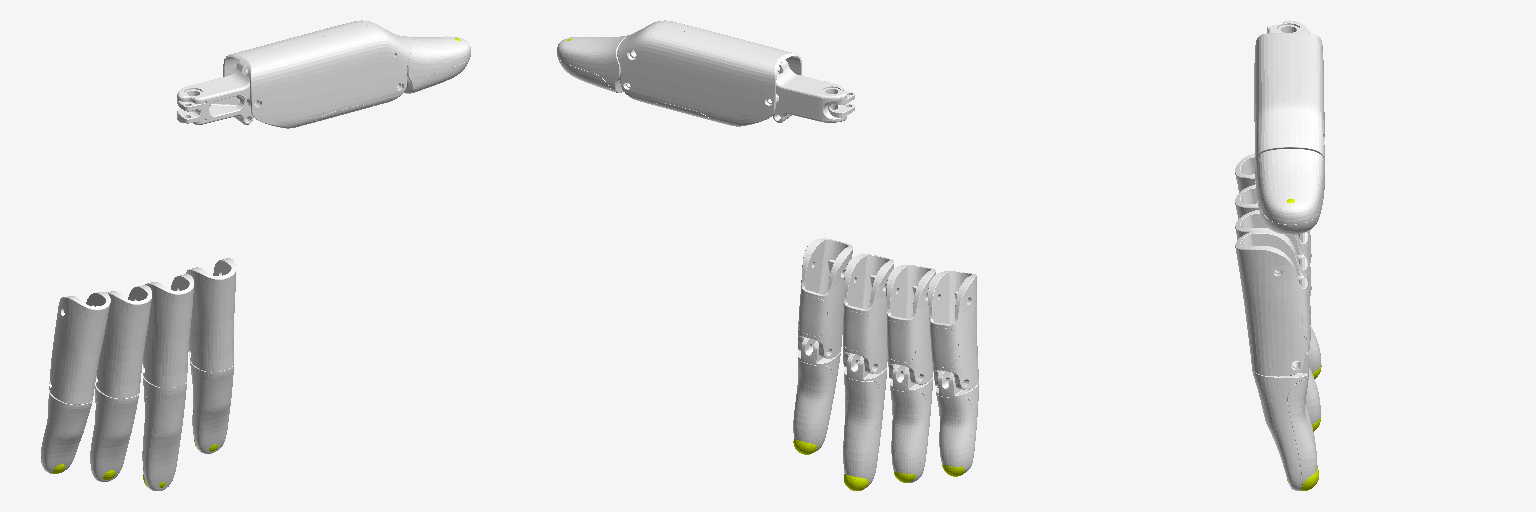
robot.urdf — fourier_right_hand_6dof:
<?xml version="1.0" encoding="utf-8"?>
<!-- 09222025-alpha-1 -->
<robot name="fourier_right_hand_6dof">
  <link name="R_hand_base_link">
    <inertial>
      <origin xyz="-0.0010591 0.0016177 -0.049492" rpy="0 0 0" />
      <mass value="0.2993" />
      <inertia ixx="0.00020609" ixy="1.23E-06" ixz="8.3E-06" iyy="0.00028713" iyz="-7.35E-06" izz="0.00014748" />
    </inertial>
    <visual>
      <origin xyz="0 0 0" rpy="0 0 0" />
      <geometry>
        <mesh filename="../meshes/fourier_hand_6dof/R_hand_base_link.STL" />
      </geometry>
      <material name="">
        <color rgba="1 1 1 1" />
      </material>
    </visual>
    <collision>
      <origin xyz="0 0 0" rpy="0 0 0" />
      <geometry>
        <mesh filename="../meshes/fourier_hand_6dof/R_hand_base_link.STL" />
      </geometry>
    </collision>
  </link>
  <link name="R_thumb_proximal_yaw_link">
    <inertial>
      <origin xyz="0.011674 -0.00039794 -0.00044567" rpy="0 0 0" />
      <mass value="0.0084327" />
      <inertia ixx="3E-07" ixy="1E-08" ixz="5E-08" iyy="8.8E-07" iyz="0" izz="8.5E-07" />
    </inertial>
    <visual>
      <origin xyz="0 0 0" rpy="0 0 0" />
      <geometry>
        <mesh filename="../meshes/fourier_hand_6dof/R_thumb_proximal_yaw_link.STL" />
      </geometry>
      <material name="">
        <color rgba="1 1 1 1" />
      </material>
    </visual>
    <collision>
      <origin xyz="0 0 0" rpy="0 0 0" />
      <geometry>
        <mesh filename="../meshes/fourier_hand_6dof/R_thumb_proximal_yaw_link.STL" />
      </geometry>
    </collision>
  </link>
  <joint name="R_thumb_proximal_yaw_joint" type="revolute">
    <origin xyz="0.022 0.0155 -0.022892" rpy="3.1416 0 0" />
    <parent link="R_hand_base_link" />
    <child link="R_thumb_proximal_yaw_link" />
    <axis xyz="0 0 1" />
    <limit lower="-1.676" upper="0" effort="0" velocity="0" />
  </joint>
  <link name="R_thumb_proximal_pitch_link">
    <inertial>
      <origin xyz="0.034496 0.00048877 1.942E-05" rpy="0 0 0" />
      <mass value="0.060766" />
      <inertia ixx="5.08E-06" ixy="8.1E-07" ixz="2E-08" iyy="1.71E-05" iyz="0" izz="1.85E-05" />
    </inertial>
    <visual>
      <origin xyz="0 0 0" rpy="0 0 0" />
      <geometry>
        <mesh filename="../meshes/fourier_hand_6dof/R_thumb_proximal_pitch_link.STL" />
      </geometry>
      <material name="">
        <color rgba="1 1 1 1" />
      </material>
    </visual>
    <collision>
      <origin xyz="0 0 0" rpy="0 0 0" />
      <geometry>
        <mesh filename="../meshes/fourier_hand_6dof/R_thumb_proximal_pitch_link.STL" />
      </geometry>
    </collision>
  </link>
  <joint name="R_thumb_proximal_pitch_joint" type="revolute">
    <origin xyz="0.02175 -7.414E-05 0" rpy="1.5708 0 -0.0057076" />
    <parent link="R_thumb_proximal_yaw_link" />
    <child link="R_thumb_proximal_pitch_link" />
    <axis xyz="0 0 1" />
    <limit lower="0" upper="1.159" effort="0" velocity="0" />
  </joint>
  <link name="R_thumb_distal_link">
    <inertial>
      <origin xyz="0.012862 -0.0029035 0" rpy="0 0 0" />
      <mass value="0.018024" />
      <inertia ixx="8.6E-07" ixy="-1.4E-07" ixz="0" iyy="2E-06" iyz="0" izz="1.87E-06" />
    </inertial>
    <visual>
      <origin xyz="0 0 0" rpy="0 0 0" />
      <geometry>
        <mesh filename="../meshes/fourier_hand_6dof/R_thumb_distal_link.STL" />
      </geometry>
      <material name="">
        <color rgba="1 1 1 1" />
      </material>
    </visual>
    <collision>
      <origin xyz="0 0 0" rpy="0 0 0" />
      <geometry>
        <mesh filename="../meshes/fourier_hand_6dof/R_thumb_distal_link.STL" />
      </geometry>
    </collision>
  </link>
  <joint name="R_thumb_distal_joint" type="revolute">
    <origin xyz="0.061549 0.007464 0" rpy="0 1.7448E-05 -0.055652" />
    <parent link="R_thumb_proximal_pitch_link" />
    <child link="R_thumb_distal_link" />
    <axis xyz="0 0 1" />
    <limit lower="0" upper="1.267" effort="0" velocity="0" />
    <mimic joint="R_thumb_proximal_pitch_joint" multiplier="1.06" offset="0" />
  </joint>
  <link name="R_thumb_tip_link">
    <visual>
      <origin xyz="0 0 0" rpy="0 0 0" />
      <geometry>
        <sphere radius="0.005" />
      </geometry>
      <material name="yellow">
        <color rgba="0.9 1 0 1" />
      </material>
    </visual>
  </link>
  <joint name="R_thumb_tip_joint" type="fixed">
    <parent link="R_thumb_distal_link" />
    <child link="R_thumb_tip_link" />
    <origin rpy="0 0 0" xyz="0.030 -0.0015 0" />
  </joint>
  <link name="R_index_proximal_link">
    <inertial>
      <origin xyz="0.013885 0.0013388 9.91E-06" rpy="0 0 0" />
      <mass value="0.011244" />
      <inertia ixx="7E-07" ixy="2.1E-07" ixz="0" iyy="1.81E-06" iyz="0" izz="1.87E-06" />
    </inertial>
    <visual>
      <origin xyz="0 0 0" rpy="0 0 0" />
      <geometry>
        <mesh filename="../meshes/fourier_hand_6dof/R_index_proximal_link.STL" />
      </geometry>
      <material name="">
        <color rgba="1 1 1 1" />
      </material>
    </visual>
    <collision>
      <origin xyz="0 0 0" rpy="0 0 0" />
      <geometry>
        <mesh filename="../meshes/fourier_hand_6dof/R_index_proximal_link.STL" />
      </geometry>
    </collision>
  </link>
  <joint name="R_index_proximal_joint" type="revolute">
    <origin xyz="0.026866 0.0123 -0.09399" rpy="3.1416 1.5184 0" />
    <parent link="R_hand_base_link" />
    <child link="R_index_proximal_link" />
    <axis xyz="0 0 1" />
    <limit lower="-1.602" upper="0" effort="0" velocity="0" />
  </joint>
  <link name="R_index_intermediate_link">
    <inertial>
      <origin xyz="0.014739 0.0047926 6.8E-06" rpy="0 0 0" />
      <mass value="0.0027085" />
      <inertia ixx="8E-08" ixy="3E-08" ixz="0" iyy="4.9E-07" iyz="0" izz="4.9E-07" />
    </inertial>
    <visual>
      <origin xyz="0 0 0" rpy="0 0 0" />
      <geometry>
        <mesh filename="../meshes/fourier_hand_6dof/R_index_intermediate_link.STL" />
      </geometry>
      <material name="">
        <color rgba="1 1 1 1" />
      </material>
    </visual>
    <collision>
      <origin xyz="0 0 0" rpy="0 0 0" />
      <geometry>
        <mesh filename="../meshes/fourier_hand_6dof/R_index_intermediate_link.STL" />
      </geometry>
    </collision>
  </link>
  <joint name="R_index_intermediate_joint" type="revolute">
    <origin xyz="0.031535 -0.0054349 0" rpy="0 0.00014037 -0.0012936" />
    <parent link="R_index_proximal_link" />
    <child link="R_index_intermediate_link" />
    <axis xyz="0 0 1" />
    <limit lower="-1.791" upper="0" effort="0" velocity="0" />
    <mimic joint="R_index_proximal_joint" multiplier="0.975" offset="0" />
  </joint>
  <link name="R_index_tip_link">
    <visual>
      <origin xyz="0 0 0" rpy="0 0 0" />
      <geometry>
        <sphere radius="0.005" />
      </geometry>
      <material name="yellow">
        <color rgba="0.9 1 0 1" />
      </material>
    </visual>
  </link>
  <joint name="R_index_tip_joint" type="fixed">
    <parent link="R_index_intermediate_link" />
    <child link="R_index_tip_link" />
    <origin rpy="0 0 0" xyz="0.0390 -0.0020 0" />
  </joint>
  <link name="R_middle_proximal_link">
    <inertial>
      <origin xyz="0.013886 0.0013279 9.91E-06" rpy="0 0 0" />
      <mass value="0.011244" />
      <inertia ixx="7E-07" ixy="2.1E-07" ixz="0" iyy="1.81E-06" iyz="0" izz="1.87E-06" />
    </inertial>
    <visual>
      <origin xyz="0 0 0" rpy="0 0 0" />
      <geometry>
        <mesh filename="../meshes/fourier_hand_6dof/R_middle_proximal_link.STL" />
      </geometry>
      <material name="">
        <color rgba="1 1 1 1" />
      </material>
    </visual>
    <collision>
      <origin xyz="0 0 0" rpy="0 0 0" />
      <geometry>
        <mesh filename="../meshes/fourier_hand_6dof/R_middle_proximal_link.STL" />
      </geometry>
    </collision>
  </link>
  <joint name="R_middle_proximal_joint" type="revolute">
    <origin xyz="0.0085 0.0123 -0.096" rpy="3.1416 1.5708 0" />
    <parent link="R_hand_base_link" />
    <child link="R_middle_proximal_link" />
    <axis xyz="0 0 1" />
    <limit lower="-1.603" upper="0" effort="0" velocity="0" />
  </joint>
  <link name="R_middle_intermediate_link">
    <inertial>
      <origin xyz="0.01836 0.0048894 0" rpy="0 0 0" />
      <mass value="0.0032739" />
      <inertia ixx="9E-08" ixy="5E-08" ixz="0" iyy="7.9E-07" iyz="0" izz="7.8E-07" />
    </inertial>
    <visual>
      <origin xyz="0 0 0" rpy="0 0 0" />
      <geometry>
        <mesh filename="../meshes/fourier_hand_6dof/R_middle_intermediate_link.STL" />
      </geometry>
      <material name="">
        <color rgba="1 1 1 1" />
      </material>
    </visual>
    <collision>
      <origin xyz="0 0 0" rpy="0 0 0" />
      <geometry>
        <mesh filename="../meshes/fourier_hand_6dof/R_middle_intermediate_link.STL" />
      </geometry>
    </collision>
  </link>
  <joint name="R_middle_intermediate_joint" type="revolute">
    <origin xyz="0.031531 -0.0054597 0" rpy="0 0.00015517 0.007959" />
    <parent link="R_middle_proximal_link" />
    <child link="R_middle_intermediate_link" />
    <axis xyz="0 0 1" />
    <limit lower="-1.791" upper="0" effort="0" velocity="0" />
    <mimic joint="R_middle_proximal_joint" multiplier="0.975" offset="0" />
  </joint>
  <link name="R_middle_tip_link">
    <visual>
      <origin xyz="0 0 0" rpy="0 0 0" />
      <geometry>
        <sphere radius="0.005" />
      </geometry>
      <material name="yellow">
        <color rgba="0.9 1 0 1" />
      </material>
    </visual>
  </link>
  <joint name="R_middle_tip_joint" type="fixed">
    <parent link="R_middle_intermediate_link" />
    <child link="R_middle_tip_link" />
    <origin rpy="0 0 0" xyz="0.047 -0.0025 0" />
  </joint>
  <link name="R_ring_proximal_link">
    <inertial>
      <origin xyz="0.013899 0.0011863 9.91E-06" rpy="0 0 0" />
      <mass value="0.011244" />
      <inertia ixx="7E-07" ixy="2.2E-07" ixz="0" iyy="1.81E-06" iyz="0" izz="1.87E-06" />
    </inertial>
    <visual>
      <origin xyz="0 0 0" rpy="0 0 0" />
      <geometry>
        <mesh filename="../meshes/fourier_hand_6dof/R_ring_proximal_link.STL" />
      </geometry>
      <material name="">
        <color rgba="1 1 1 1" />
      </material>
    </visual>
    <collision>
      <origin xyz="0 0 0" rpy="0 0 0" />
      <geometry>
        <mesh filename="../meshes/fourier_hand_6dof/R_ring_proximal_link.STL" />
      </geometry>
    </collision>
  </link>
  <joint name="R_ring_proximal_joint" type="revolute">
    <origin xyz="-0.0099658 0.0123 -0.095888" rpy="0 1.5184 3.1416" />
    <parent link="R_hand_base_link" />
    <child link="R_ring_proximal_link" />
    <axis xyz="0 0 1" />
    <limit lower="-1.602" upper="0" effort="0" velocity="0" />
  </joint>
  <link name="R_ring_intermediate_link">
    <inertial>
      <origin xyz="0.014739 0.0047926 6.8E-06" rpy="0 0 0" />
      <mass value="0.0027085" />
      <inertia ixx="8E-08" ixy="3E-08" ixz="0" iyy="4.9E-07" iyz="0" izz="4.9E-07" />
    </inertial>
    <visual>
      <origin xyz="0 0 0" rpy="0 0 0" />
      <geometry>
        <mesh filename="../meshes/fourier_hand_6dof/R_ring_intermediate_link.STL" />
      </geometry>
      <material name="">
        <color rgba="1 1 1 1" />
      </material>
    </visual>
    <collision>
      <origin xyz="0 0 0" rpy="0 0 0" />
      <geometry>
        <mesh filename="../meshes/fourier_hand_6dof/R_ring_intermediate_link.STL" />
      </geometry>
    </collision>
  </link>
  <joint name="R_ring_intermediate_joint" type="revolute">
    <origin xyz="0.031474 -0.0057806 0" rpy="0 0.00014037 -0.020997" />
    <parent link="R_ring_proximal_link" />
    <child link="R_ring_intermediate_link" />
    <axis xyz="0 0 1" />
    <limit lower="-1.798" upper="0" effort="0" velocity="0" />
    <mimic joint="R_ring_proximal_joint" multiplier="0.975" offset="0" />
  </joint>
  <link name="R_ring_tip_link">
    <visual>
      <origin xyz="0 0 0" rpy="0 0 0" />
      <geometry>
        <sphere radius="0.005" />
      </geometry>
      <material name="green">
        <color rgba="0.9 1 0 1" />
      </material>
    </visual>
  </link>
  <joint name="R_ring_tip_joint" type="fixed">
    <parent link="R_ring_intermediate_link" />
    <child link="R_ring_tip_link" />
    <origin rpy="0 0 0" xyz="0.0385 -0.0015 0" />
  </joint>
  <link name="R_pinky_proximal_link">
    <inertial>
      <origin xyz="0.013899 0.0011868 1.899E-05" rpy="0 0 0" />
      <mass value="0.011244" />
      <inertia ixx="7E-07" ixy="2.2E-07" ixz="0" iyy="1.81E-06" iyz="0" izz="1.87E-06" />
    </inertial>
    <visual>
      <origin xyz="0 0 0" rpy="0 0 0" />
      <geometry>
        <mesh filename="../meshes/fourier_hand_6dof/R_pinky_proximal_link.STL" />
      </geometry>
      <material name="">
        <color rgba="1 1 1 1" />
      </material>
    </visual>
    <collision>
      <origin xyz="0 0 0" rpy="0 0 0" />
      <geometry>
        <mesh filename="../meshes/fourier_hand_6dof/R_pinky_proximal_link.STL" />
      </geometry>
    </collision>
  </link>
  <joint name="R_pinky_proximal_joint" type="revolute">
    <origin xyz="-0.028223 0.0123 -0.093963" rpy="0 1.4661 3.1416" />
    <parent link="R_hand_base_link" />
    <child link="R_pinky_proximal_link" />
    <axis xyz="0 0 1" />
    <limit lower="-1.602" upper="0" effort="0" velocity="0" />
  </joint>
  <link name="R_pinky_intermediate_link">
    <inertial>
      <origin xyz="0.012117 0.0047104 2.485E-05" rpy="0 0 0" />
      <mass value="0.0024076" />
      <inertia ixx="7E-08" ixy="1E-08" ixz="0" iyy="3.2E-07" iyz="0" izz="3.2E-07" />
    </inertial>
    <visual>
      <origin xyz="0 0 0" rpy="0 0 0" />
      <geometry>
        <mesh filename="../meshes/fourier_hand_6dof/R_pinky_intermediate_link.STL" />
      </geometry>
      <material name="">
        <color rgba="1 1 1 1" />
      </material>
    </visual>
    <collision>
      <origin xyz="0 0 0" rpy="0 0 0" />
      <geometry>
        <mesh filename="../meshes/fourier_hand_6dof/R_pinky_intermediate_link.STL" />
      </geometry>
    </collision>
  </link>
  <joint name="R_pinky_intermediate_joint" type="revolute">
    <origin xyz="0.031474 -0.0057796 0" rpy="0 7.8504E-05 -0.030132" />
    <parent link="R_pinky_proximal_link" />
    <child link="R_pinky_intermediate_link" />
    <axis xyz="0 0 1" />
    <limit lower="-1.796" upper="0" effort="0" velocity="0" />
    <mimic joint="R_pinky_proximal_joint" multiplier="0.975" offset="0" />
  </joint>
  <link name="R_pinky_tip_link">
    <visual>
      <origin xyz="0 0 0" rpy="0 0 0" />
      <geometry>
        <sphere radius="0.005" />
      </geometry>
      <material name="yellow">
        <color rgba="0.9 1 0 1" />
      </material>
    </visual>
  </link>
  <joint name="R_pinky_tip_joint" type="fixed">
    <parent link="R_pinky_intermediate_link" />
    <child link="R_pinky_tip_link" />
    <origin rpy="0 0 0" xyz="0.033 -0.0015 0" />
  </joint>
</robot>

--- What the picture shows (computed from the rendered views, not written in the file) ---
The picture shows the robot from 3 angles, left to right: view 1: azimuth 30°, elevation 25°; view 2: azimuth 150°, elevation 25°; view 3: azimuth 270°, elevation 25°; orthographic projection.
Robot: fourier_right_hand_6dof — 17 links, 16 joints (11 revolute, 5 fixed); root link R_hand_base_link; default pose: every joint at zero.
Visible links, largest first — view 1: R_thumb_proximal_pitch_link, R_pinky_proximal_link, R_middle_proximal_link, R_index_proximal_link, R_ring_proximal_link, R_middle_intermediate_link, R_thumb_proximal_yaw_link, R_ring_intermediate_link, R_index_intermediate_link, R_thumb_distal_link, R_pinky_intermediate_link; view 2: R_thumb_proximal_pitch_link, R_pinky_proximal_link, R_index_proximal_link, R_middle_proximal_link, R_ring_proximal_link, R_middle_intermediate_link, R_ring_intermediate_link, R_index_intermediate_link, R_thumb_proximal_yaw_link, R_pinky_intermediate_link, R_thumb_distal_link; view 3: R_index_proximal_link, R_thumb_proximal_pitch_link, R_thumb_distal_link, R_index_intermediate_link, R_middle_proximal_link, R_ring_proximal_link, R_pinky_proximal_link, R_ring_intermediate_link.
Link boxes in pixels (x1,y1,x2,y2): R_thumb_proximal_pitch_link: [223, 20, 410, 128]; R_pinky_proximal_link: [49, 292, 110, 404]; R_middle_proximal_link: [143, 274, 193, 387]; R_index_proximal_link: [186, 258, 235, 371]; R_ring_proximal_link: [96, 285, 151, 398]; R_middle_intermediate_link: [142, 376, 186, 490]; R_thumb_proximal_yaw_link: [177, 61, 253, 124]; R_ring_intermediate_link: [90, 386, 138, 481]; R_index_intermediate_link: [190, 361, 233, 453]; R_thumb_distal_link: [398, 35, 470, 93]; R_pinky_intermediate_link: [41, 391, 92, 473]; R_thumb_proximal_pitch_link: [617, 20, 801, 126]; R_pinky_proximal_link: [928, 271, 978, 389]; R_index_proximal_link: [798, 238, 852, 358]; R_middle_proximal_link: [843, 254, 893, 373]; R_ring_proximal_link: [886, 265, 935, 384]; R_middle_intermediate_link: [843, 353, 886, 487]; R_ring_intermediate_link: [890, 364, 932, 482]; R_index_intermediate_link: [793, 337, 840, 451]; R_thumb_proximal_yaw_link: [773, 60, 854, 122]; R_pinky_intermediate_link: [936, 371, 978, 472]; R_thumb_distal_link: [557, 35, 628, 92]; R_index_proximal_link: [1235, 230, 1310, 376]; R_thumb_proximal_pitch_link: [1254, 33, 1324, 189]; R_thumb_distal_link: [1256, 149, 1324, 234]; R_index_intermediate_link: [1252, 348, 1317, 490]; R_middle_proximal_link: [1235, 210, 1310, 319]; R_ring_proximal_link: [1235, 184, 1311, 295]; R_pinky_proximal_link: [1235, 153, 1311, 262]; R_ring_intermediate_link: [1306, 320, 1320, 424].
Bounding box of the posed robot: 0.1819 × 0.0276 × 0.1721 m (x, y, z).
11 mesh visuals loaded from 12 distinct referenced files (11 binary STL); not drawn: 1 (reference not matched to a file when rendering).